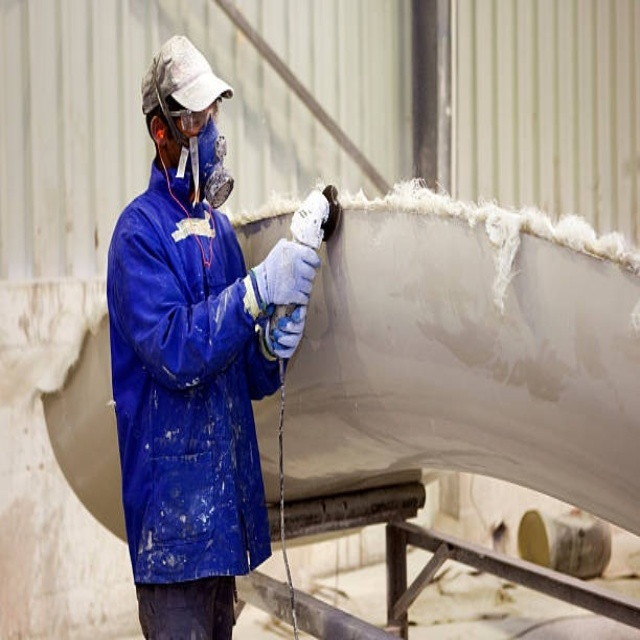Gafas: (167, 99, 217, 134)
Guantes: (249, 240, 320, 316), (264, 302, 308, 361)
Mascara: (180, 114, 229, 204)
